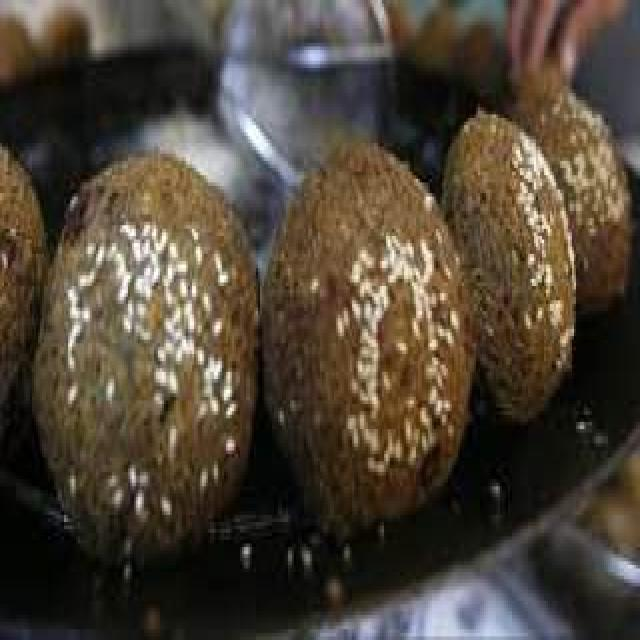taamia: (0, 64, 640, 594)
